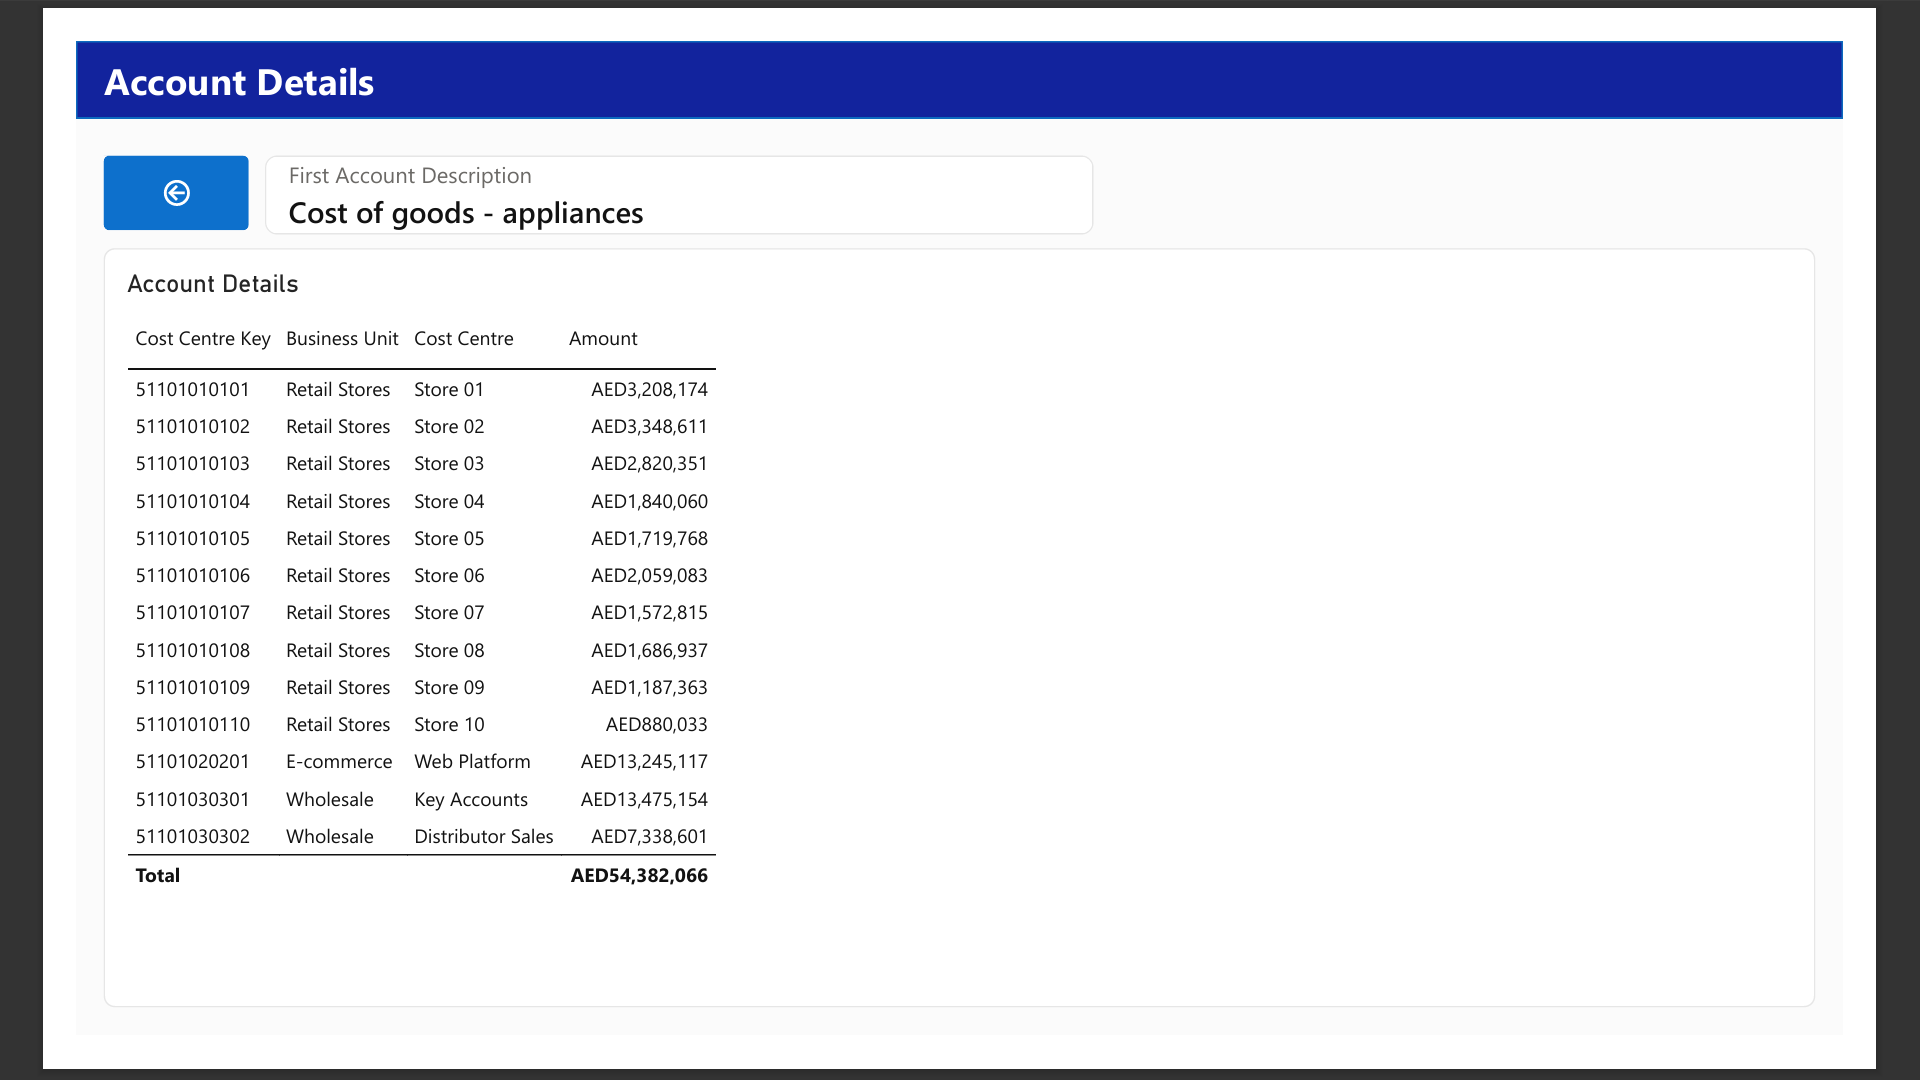

What the dashboard file says about the page in this screenshot:
{"tool":"powerbi","page":{"name":"Account Details","canvas":[1280,720],"ordinal":2},"visuals":[{"type":"actionButton","box":[20,83.3,105,53.3],"z":0},{"type":"tableEx","title":"Account Details","fields":{"Values":["Dim_Combination.Combination","Dim_Combination.Division Description","Dim_Combination.Dept. Description","_Measures.Total CY"]},"box":[20,150,1240,550],"z":1000},{"type":"shape","title":"Executive Financial Overview","box":[0,0,1280,56],"z":2000},{"type":"textbox","box":[20,10,575,40],"z":3000},{"type":"cardVisual","fields":{"Data":["Min(Dim_Combination.Account Description)"]},"box":[136.7,83.3,600,56.7],"z":4000}]}

Visuals, with their boxes in screenshot pixels (x1, y1, x2, y2), scaled from the page's 1280x720 canvas onto the 1920x1080 screenshot:
actionButton: box=[30, 125, 188, 205]
"Account Details" tableEx: box=[30, 225, 1890, 1050]
"Executive Financial Overview" shape: box=[0, 0, 1919, 84]
textbox: box=[30, 15, 892, 75]
cardVisual - Min(Dim_Combination.Account Description): box=[205, 125, 1105, 210]
